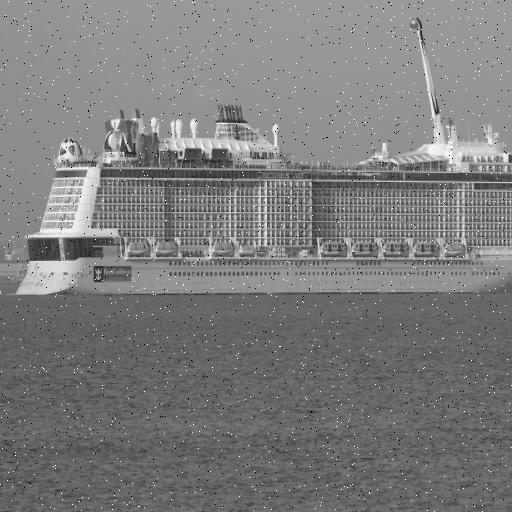cruises: (13, 13, 512, 316)
